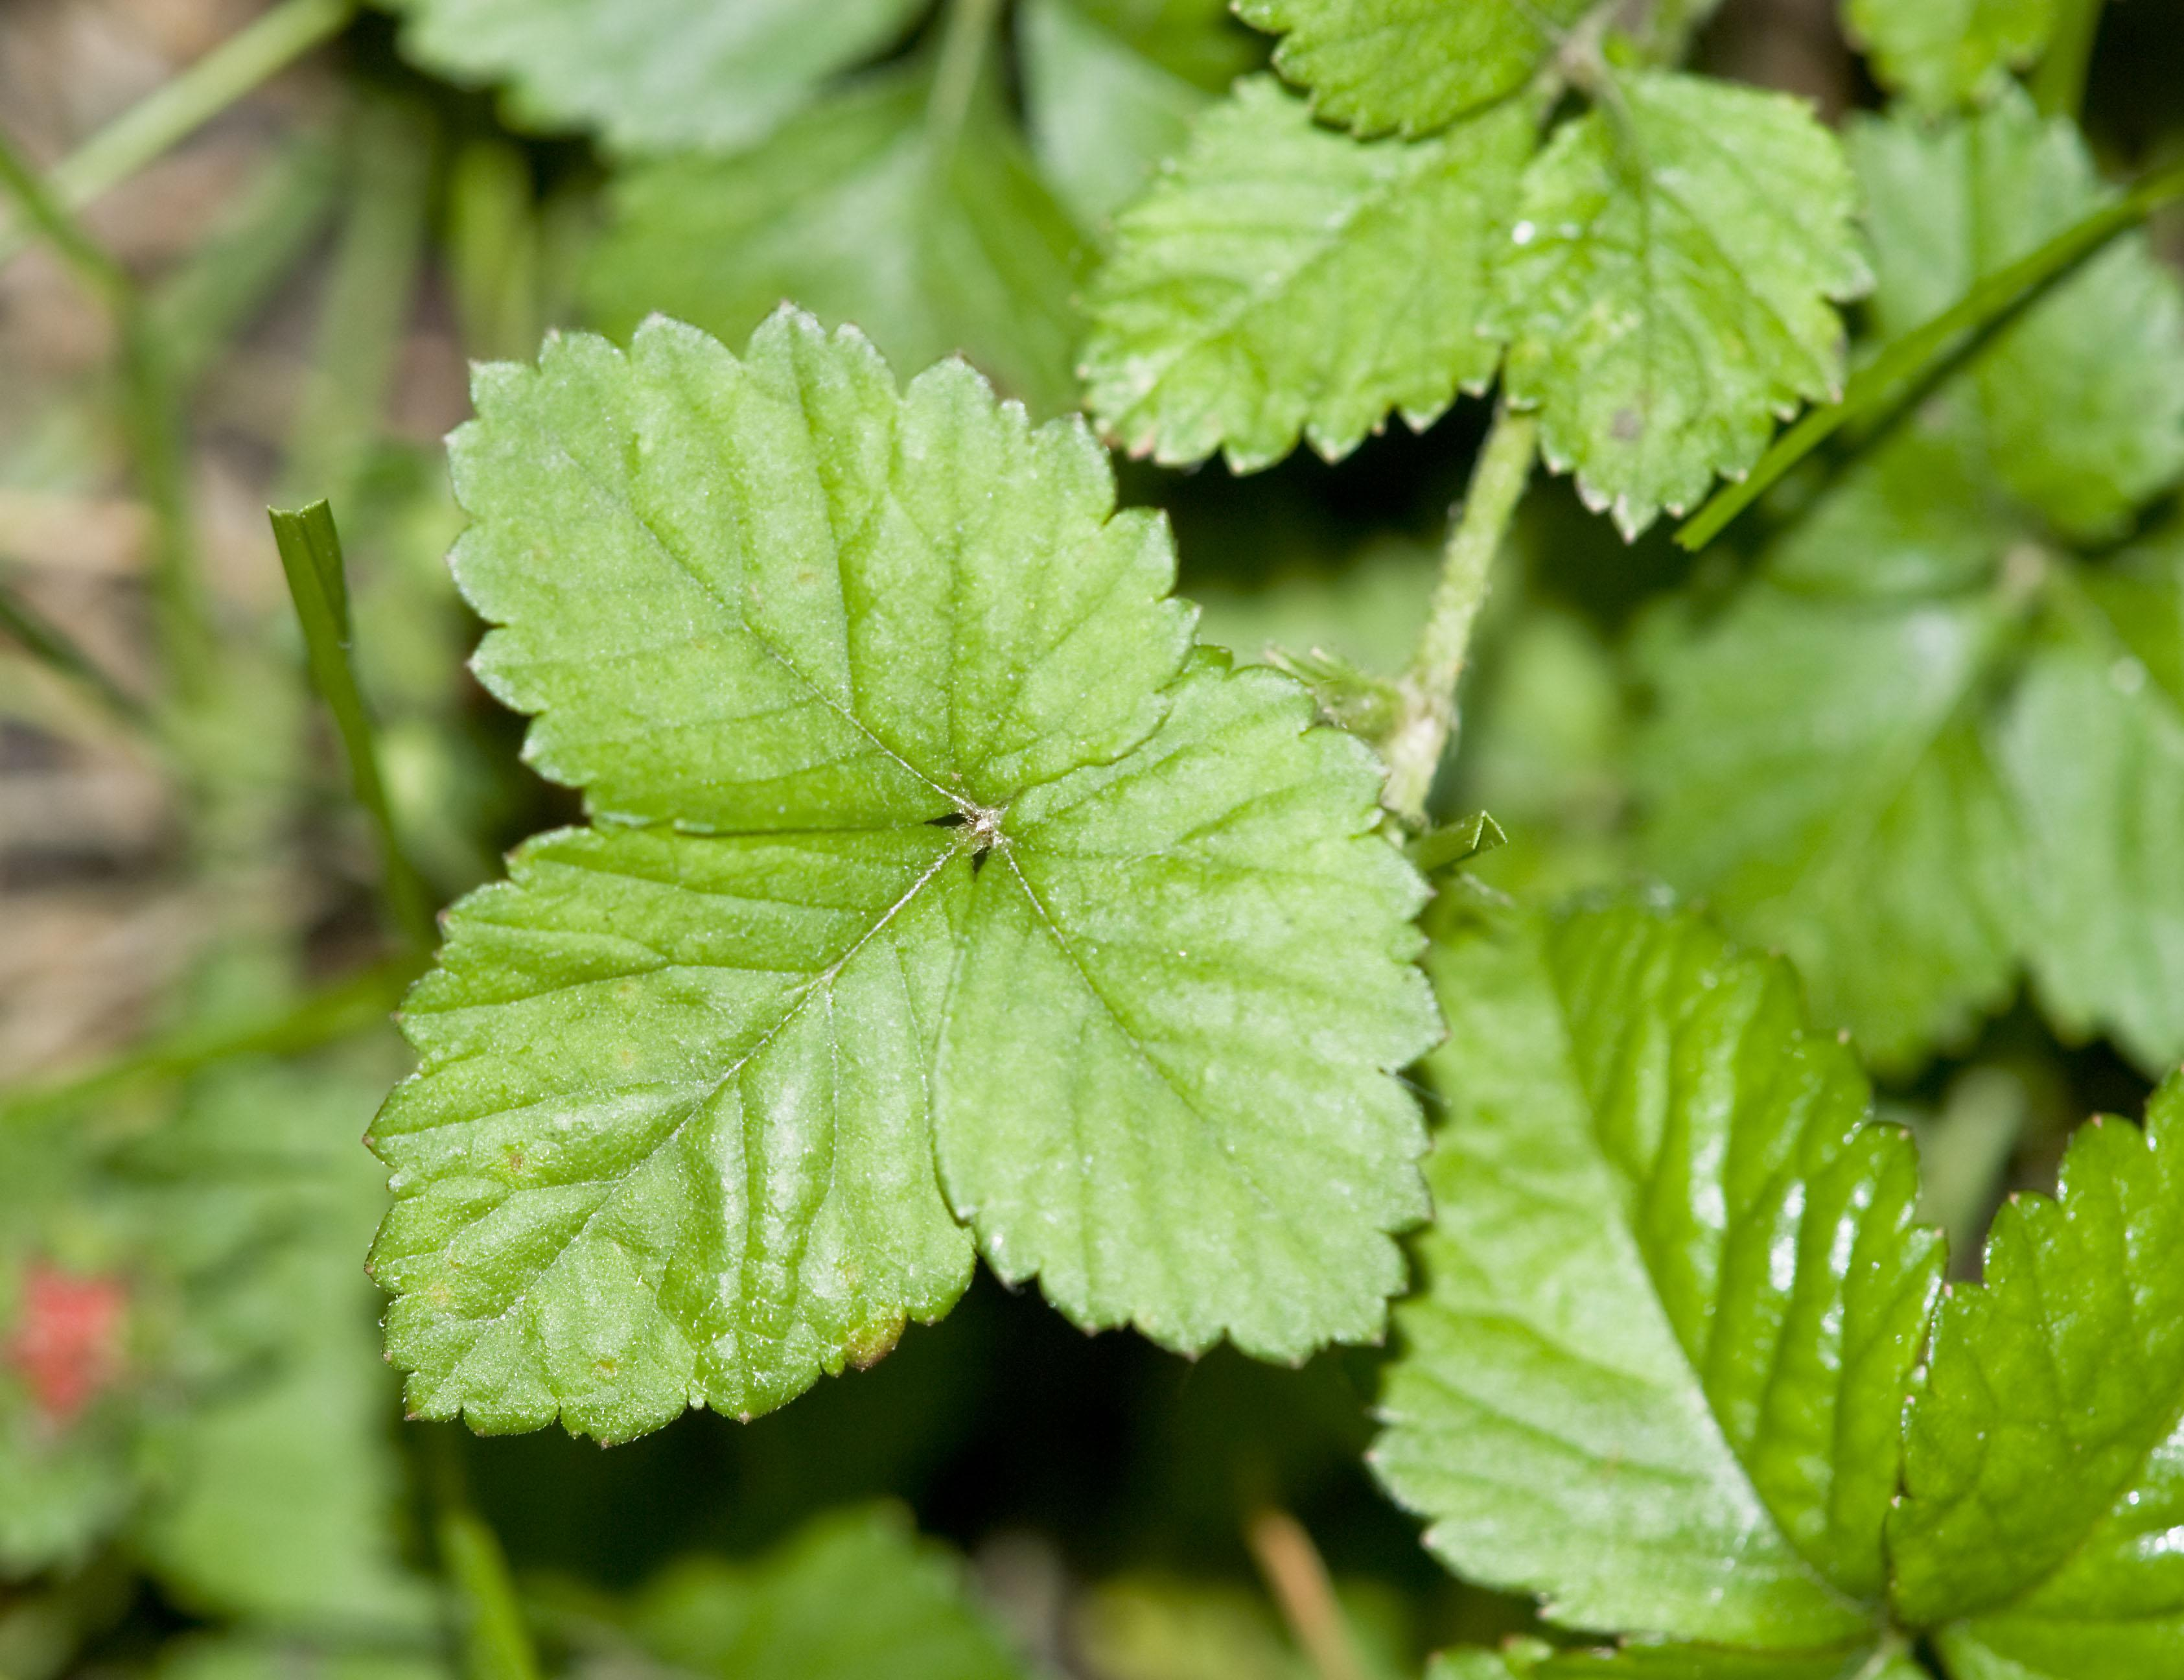Strawberry leaf: (349, 787, 1090, 1438), (438, 312, 1191, 840), (891, 692, 1431, 1406)
